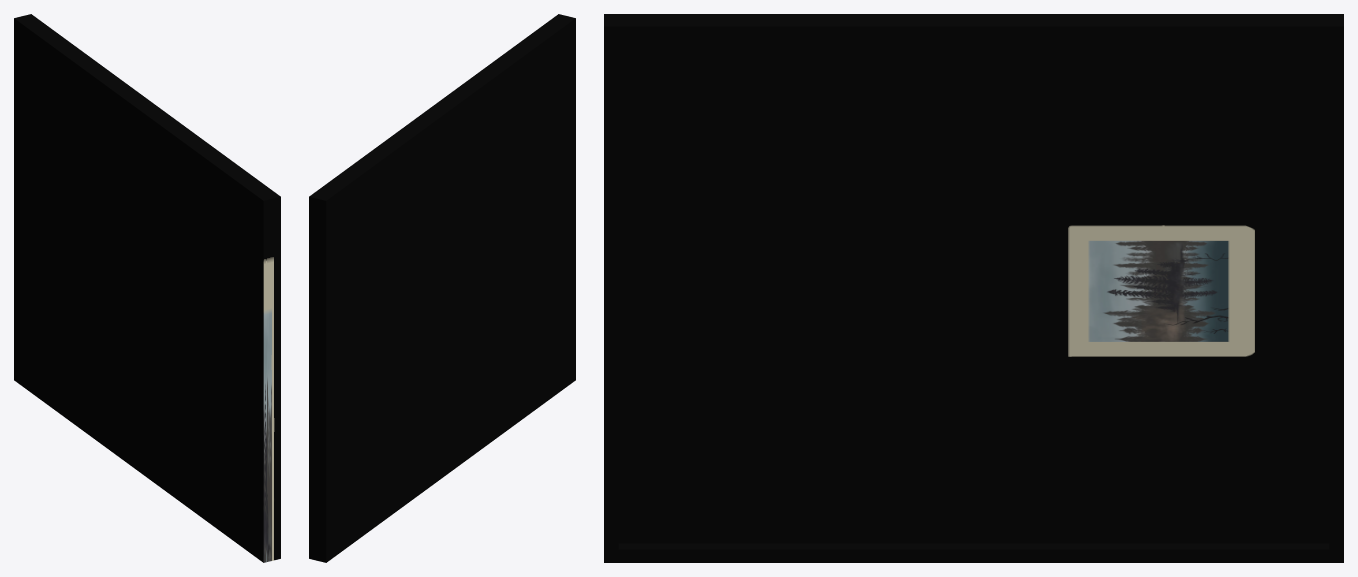
The model's file is Painting_SM.fbx.
The picture shows the model from 3 angles, left to right: view 1: azimuth 30°, elevation 25°; view 2: azimuth 150°, elevation 25°; view 3: azimuth 270°, elevation 25°; orthographic projection. The views are drawn at different scales.
Visible parts, largest first — view 1: Image; view 2: Image; view 3: Image.
Boxes of the visible parts, x1,y1,x2,y2 form: Image: [14, 14, 280, 562]; Image: [309, 14, 575, 562]; Image: [604, 14, 1343, 562].
Size of the model in its own units: 2 by 40 by 50.
Materials: 1 (1 with a texture image).
